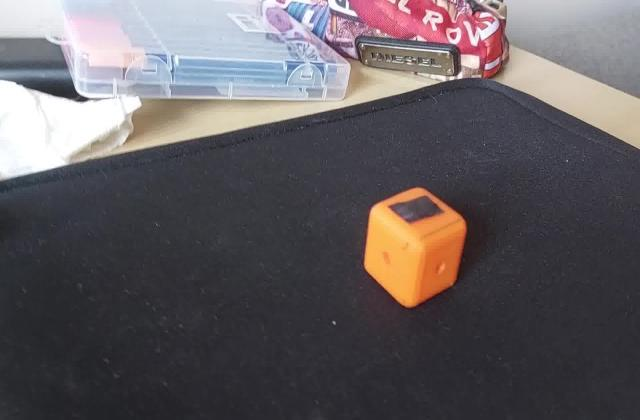black: (386, 195, 444, 226)
cube: (364, 184, 474, 316)
